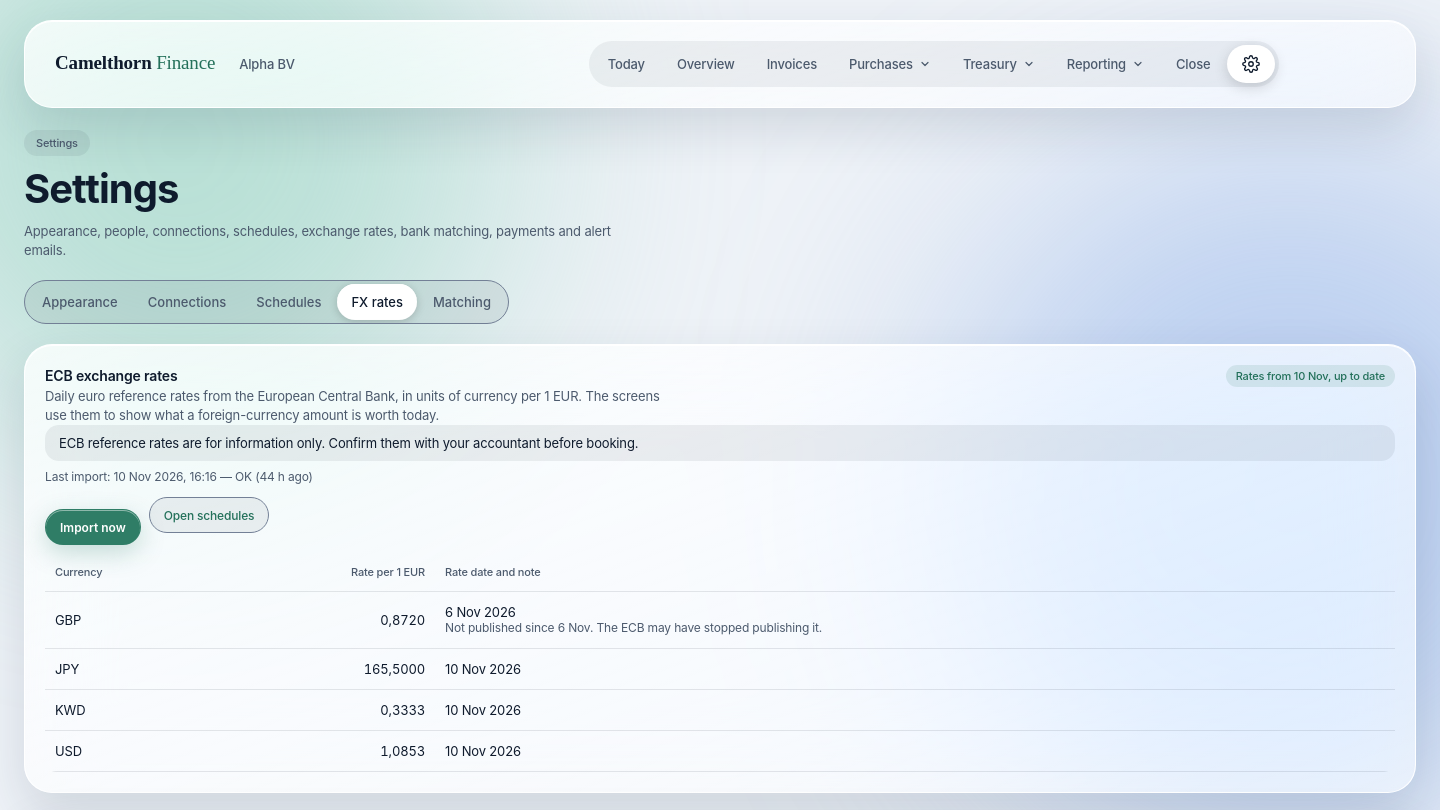
Test: Settings, FX rates › Import now › starts the import job through Run now and says so
Click the button "Import now". click: (93, 527)
box: [45,509,141,545]
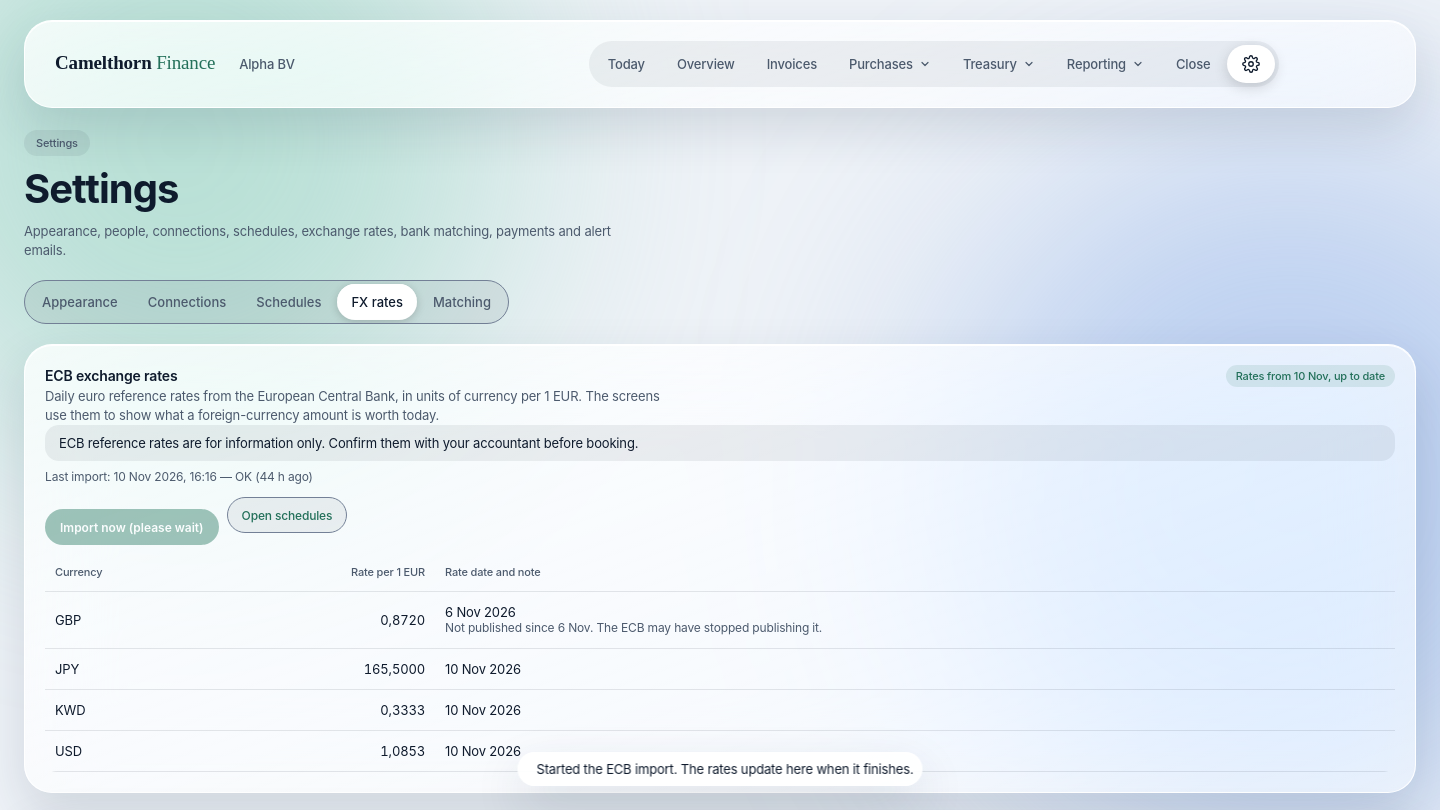
Check: the text "Started the ECB import. The rates update here when it finishes." is shown, box [536,761,914,777]
Check: the button "Import now (please wait)" is disabled, box [45,509,219,545]
